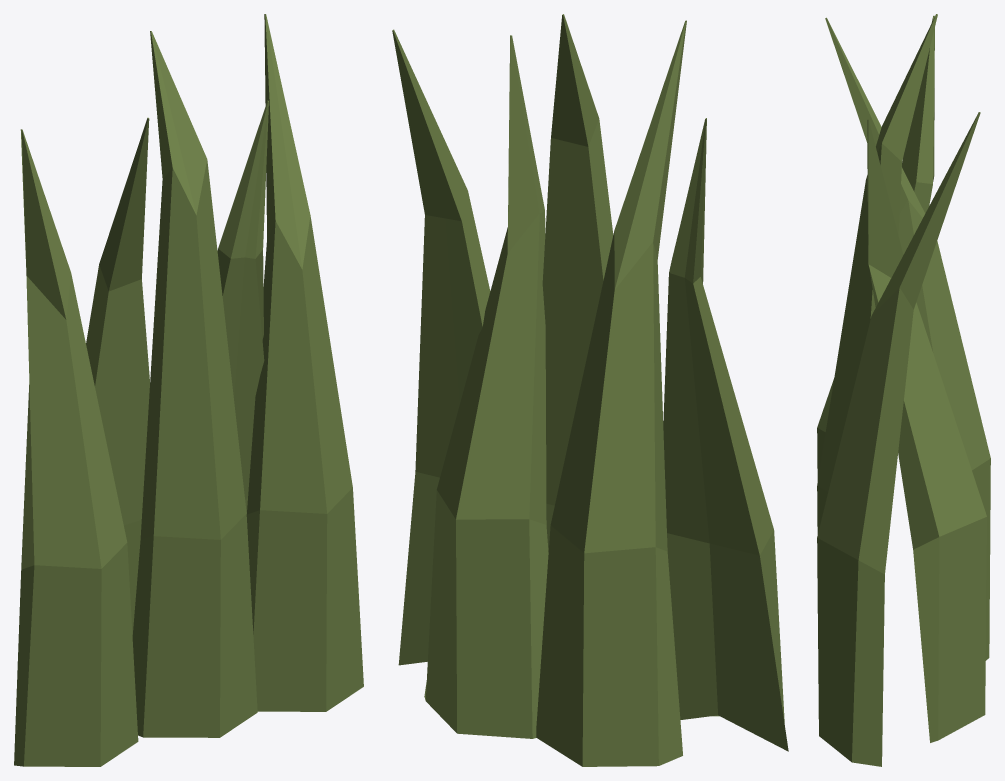
File: grass1.fbx
The picture shows the model from 3 angles, left to right: view 1: azimuth 30°, elevation 25°; view 2: azimuth 150°, elevation 25°; view 3: azimuth 270°, elevation 25°; orthographic projection. The views are drawn at different scales.
Visible parts, largest first — view 1: Cube, Cube.002, Cube.001, Cube.003, Cube.004; view 2: Cube.003, Cube.004, Cube.002, Cube.001, Cube; view 3: Cube.001, Cube.004, Cube.003, Cube, Cube.002.
Part boxes in pixels (x1,y1,x2,y2): Cube: (132, 31, 257, 737); Cube.002: (14, 129, 138, 766); Cube.001: (246, 14, 363, 711); Cube.003: (86, 117, 149, 635); Cube.004: (217, 100, 268, 513); Cube.003: (536, 20, 686, 766); Cube.004: (424, 35, 548, 738); Cube.002: (663, 118, 788, 751); Cube.001: (392, 29, 490, 665); Cube: (542, 14, 613, 551); Cube.001: (817, 112, 980, 766); Cube.004: (867, 119, 986, 742); Cube.003: (825, 17, 990, 660); Cube: (817, 14, 937, 534); Cube.002: (817, 15, 934, 480).
Bounding box in the file's own units: 17.53 × 31.69 × 7.49.
